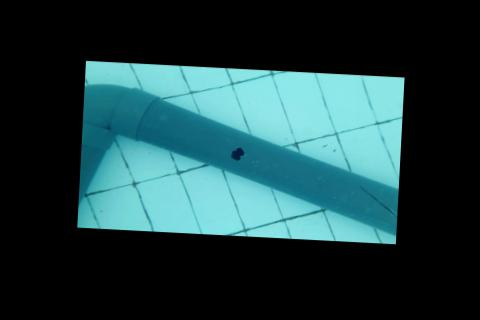kebocoran: (229, 145, 245, 160)
keretakan: (355, 185, 399, 226)
